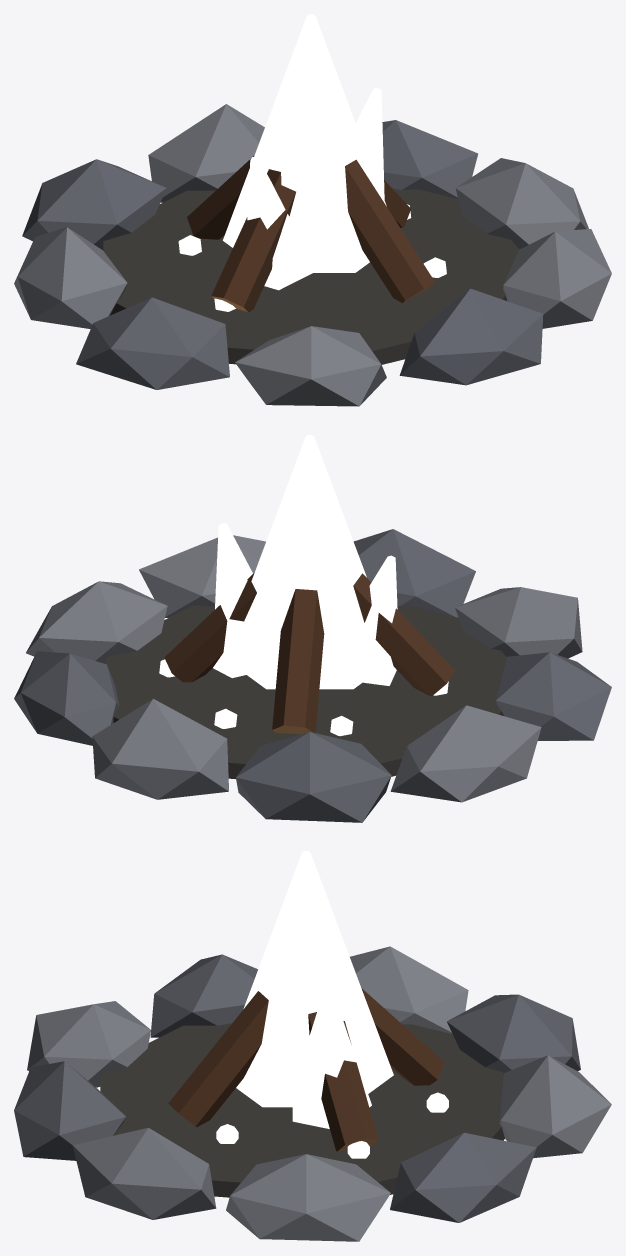
The model's file is fire-pit.glb.
The picture shows the model from 3 angles, top to bottom: view 1: azimuth 30°, elevation 25°; view 2: azimuth 150°, elevation 25°; view 3: azimuth 270°, elevation 25°; orthographic projection.
Parts seen in each view (by area): view 1: fire-pit; view 2: fire-pit; view 3: fire-pit.
Boxes of the visible parts, <box> form: fire-pit: <box>14,14,611,406</box>; fire-pit: <box>14,435,611,822</box>; fire-pit: <box>14,851,611,1241</box>.
Size of the model in its own units: 1.37 by 0.66 by 1.36.
